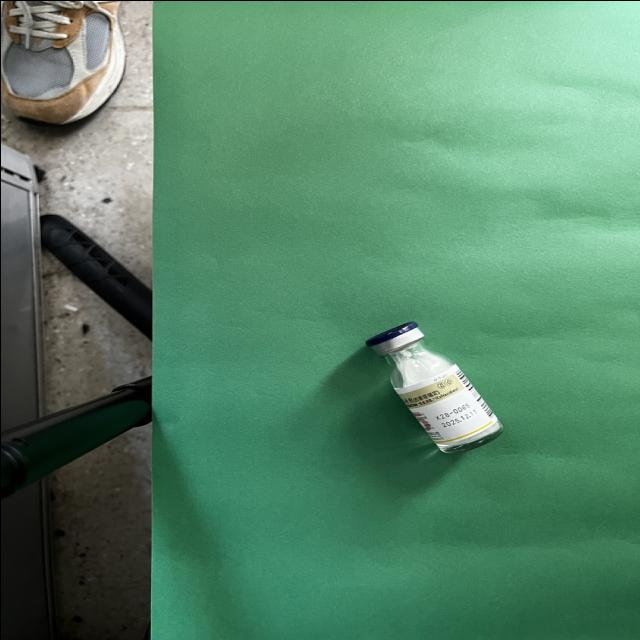Vials: (365, 320, 503, 454)
